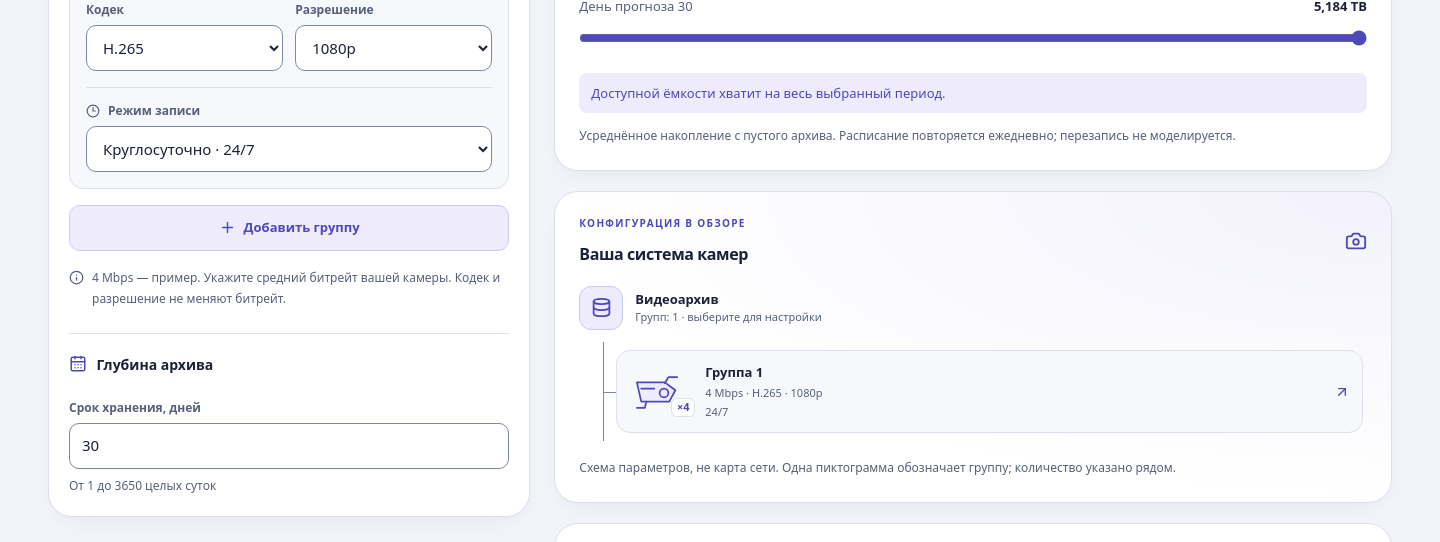
Test: calculator interactions › adds, edits and removes independent groups
(page scrolled)
Click the button "Добавить группу": [289, 228] box [69,205,509,251]
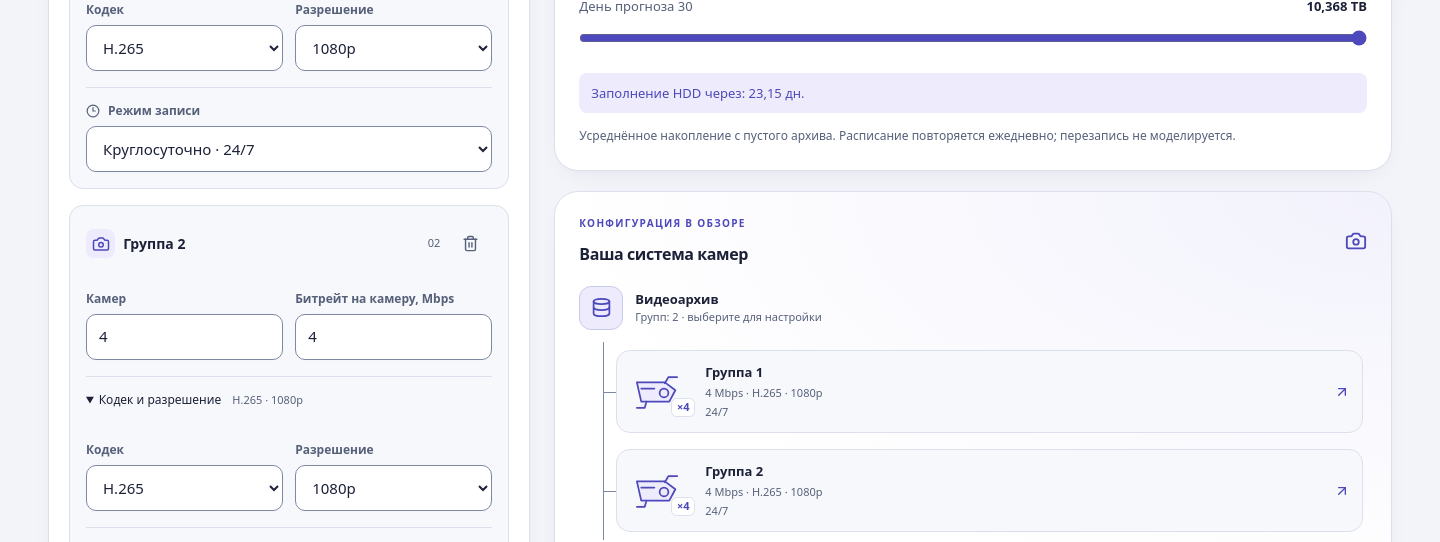
Replace the text in the 2nd field labelled "Камер" with "2": [185, 337] box [86,314,283,360]
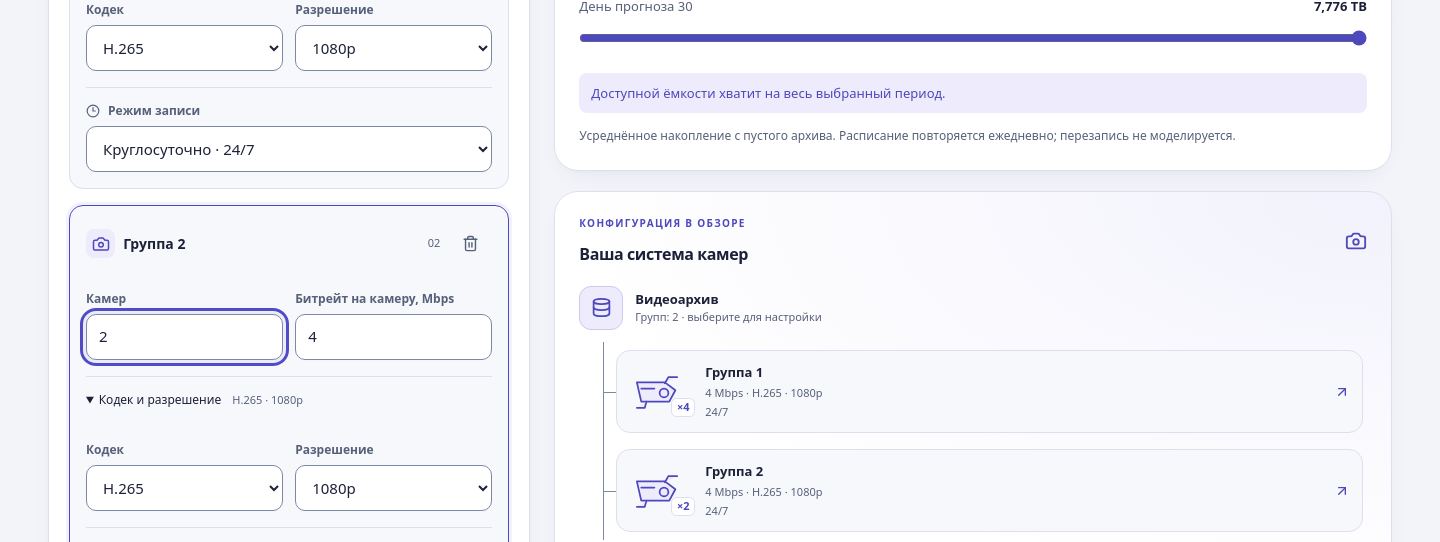
Click the button named "Удалить группу 2": [470, 244] box [448,222,492,266]
(page scrolled)
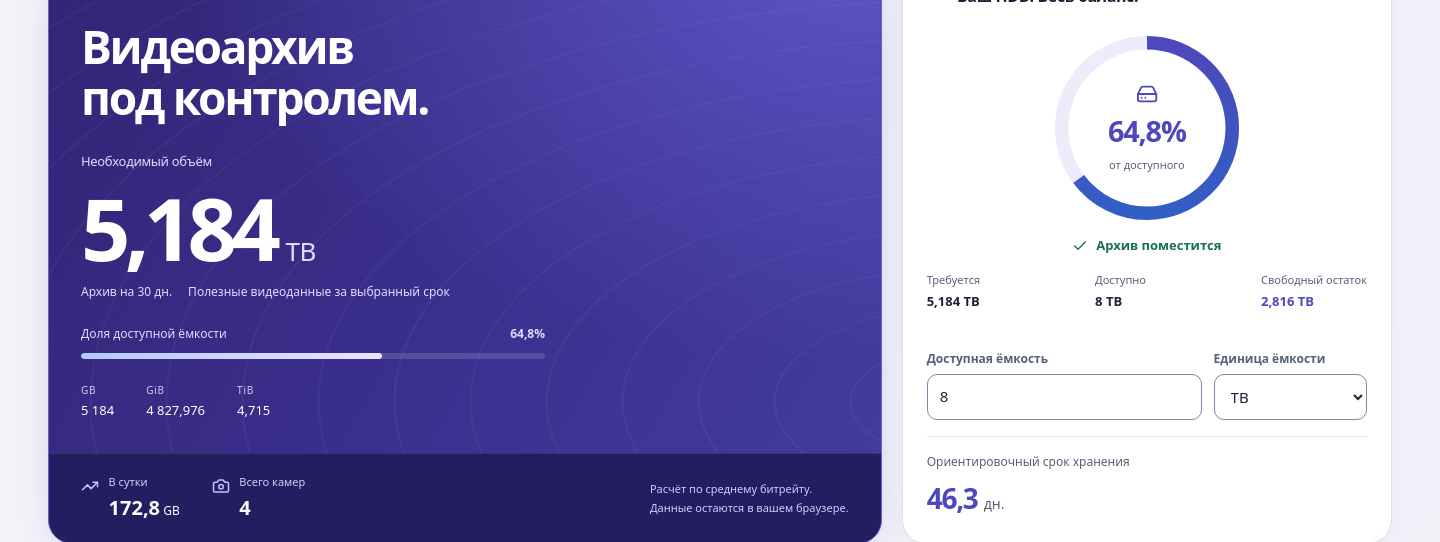
Check: the heading "Группа 2" is gone
Check: the element with test id "total-tb" shows "5,184", box [81,169,275,286]
